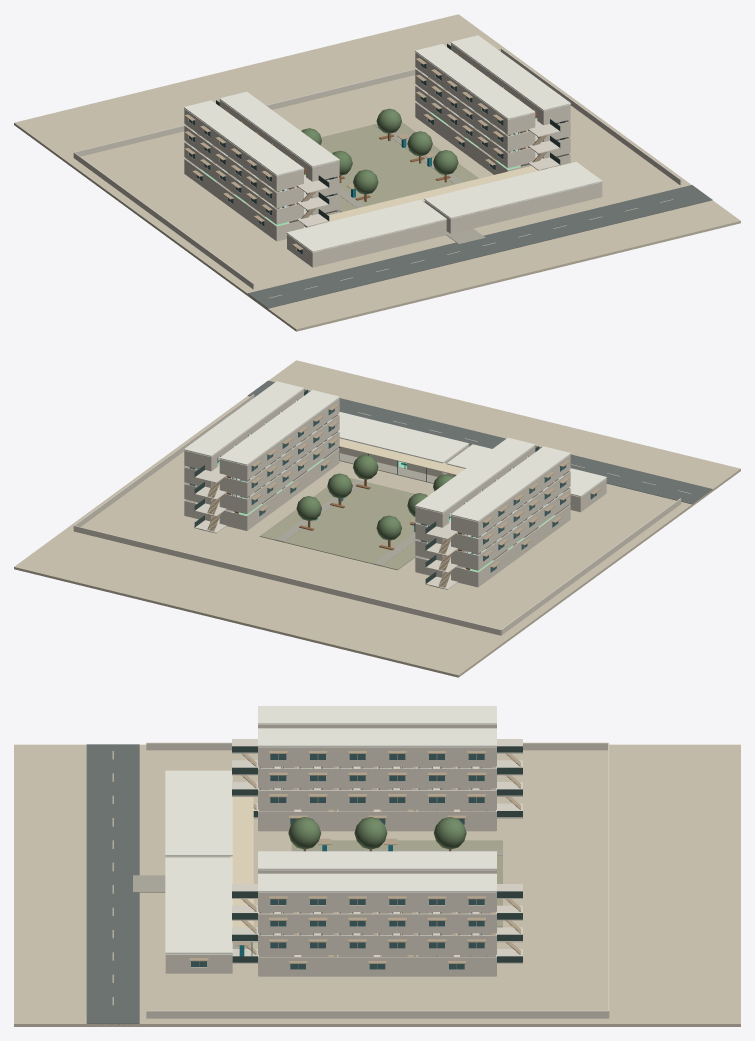
The model's file is heatshield.gltf.
The picture shows the model from 3 angles, top to bottom: view 1: azimuth 30°, elevation 25°; view 2: azimuth 150°, elevation 25°; view 3: azimuth 270°, elevation 25°; orthographic projection. The views are drawn at different scales.
Parts seen in each view (by area): view 1: Site ground, Road, Roof (×4), Courtyard garden, South external wall (×4), HEATSHIELD, Site boundary (×2), North boundary, Covered route canopy; view 2: Site ground, Courtyard garden, Road, Roof (×4), North boundary, HEATSHIELD, Site boundary (×2), Covered route canopy, Courtyard link; view 3: Site ground, Roof (×28), Road, Site boundary (×2), HEATSHIELD, Covered route canopy, Window sill wall (×3), Courtyard garden, Courtyard promenade, Arrival path, North boundary.
Boxes of the visible parts, bbox=[...] form: Site ground: bbox=[14, 14, 740, 331]; Road: bbox=[247, 185, 712, 308]; Roof (×4): bbox=[286, 161, 602, 252]; Courtyard garden: bbox=[320, 122, 478, 212]; South external wall (×4): bbox=[313, 182, 601, 267]; HEATSHIELD: bbox=[301, 108, 458, 194]; Site boundary (×2): bbox=[73, 48, 681, 289]; North boundary: bbox=[74, 48, 500, 156]; Covered route canopy: bbox=[317, 166, 553, 224]; Site ground: bbox=[14, 360, 740, 677]; Courtyard garden: bbox=[259, 477, 416, 570]; Road: bbox=[247, 380, 712, 504]; Roof (×4): bbox=[338, 412, 606, 496]; North boundary: bbox=[74, 525, 500, 635]; HEATSHIELD: bbox=[296, 454, 453, 540]; Site boundary (×2): bbox=[73, 394, 681, 635]; Covered route canopy: bbox=[339, 438, 464, 475]; Courtyard link: bbox=[340, 453, 437, 483]; Site ground: bbox=[14, 744, 740, 1026]; Roof (×28): bbox=[165, 706, 496, 953]; Road: bbox=[86, 744, 139, 1024]; Site boundary (×2): bbox=[146, 742, 608, 1018]; HEATSHIELD: bbox=[288, 817, 466, 849]; Covered route canopy: bbox=[230, 797, 253, 927]; Window sill wall (×3): bbox=[258, 969, 496, 976]; Courtyard garden: bbox=[291, 840, 502, 927]; Courtyard promenade: bbox=[291, 849, 502, 855]; Arrival path: bbox=[133, 875, 165, 892]; North boundary: bbox=[608, 743, 609, 1017].
Size of the model in its own units: 100 by 14.84 by 110.
